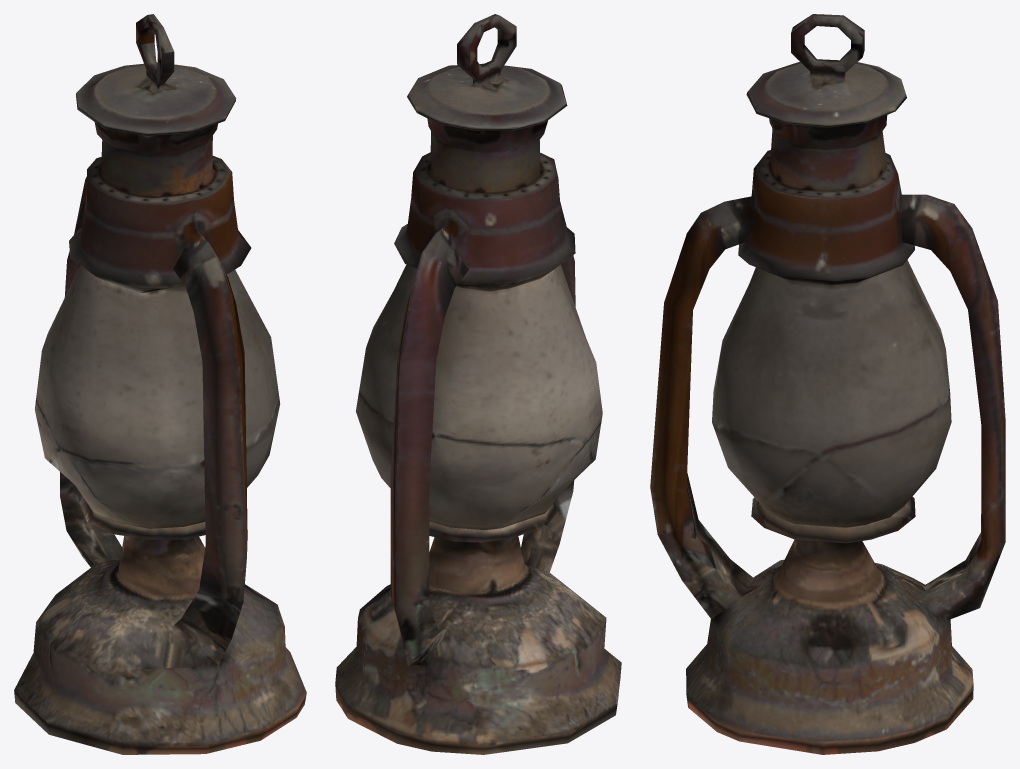
File: lantern.fbx
3 views of the same model, side by side, from view 1: azimuth 30°, elevation 25°; view 2: azimuth 150°, elevation 25°; view 3: azimuth 270°, elevation 25° (orthographic).
Visible parts, largest first — view 1: lantern; view 2: lantern; view 3: lantern.
Part boxes in pixels (<box>): lantern: <box>14,14,306,754</box>; lantern: <box>335,14,621,754</box>; lantern: <box>650,14,1005,754</box>.
Size of the model in its own units: 30.32 by 77.74 by 37.11.
Materials: 1 (1 with a texture image).
